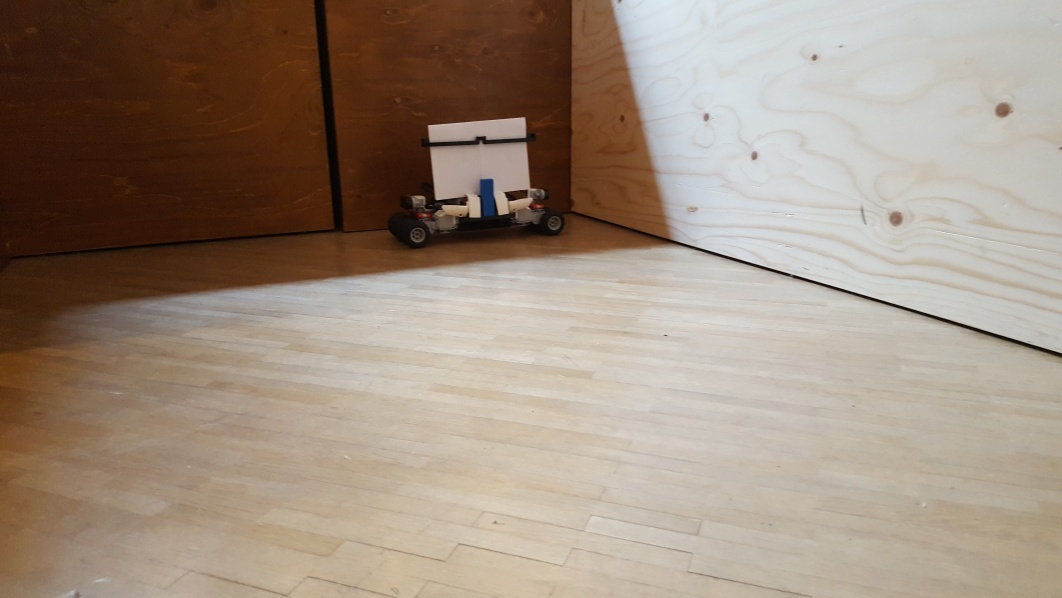beam: (479, 178, 497, 218)
